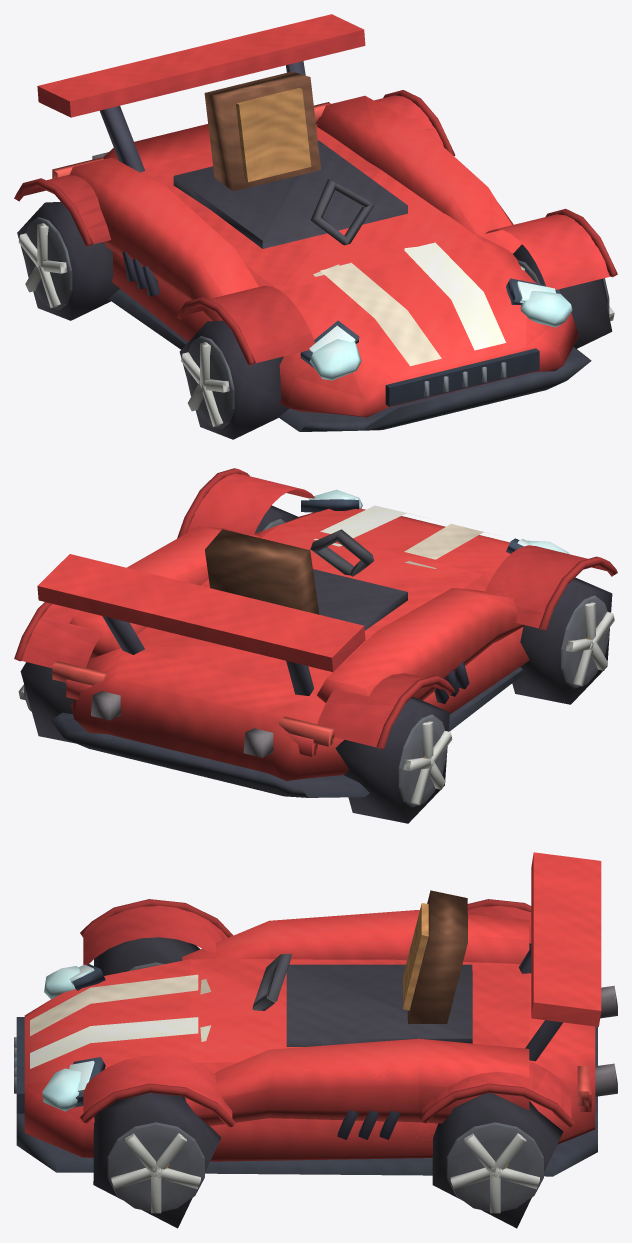
The model's file is kart_scarlet.glb.
3 renders of one model, top to bottom at view 1: azimuth 30°, elevation 25°; view 2: azimuth 150°, elevation 25°; view 3: azimuth 270°, elevation 25°, orthographic. The views are drawn at different scales.
Visible parts, largest first — view 1: Body, Wheel_L_Front, Wheel_L_Back, Wheel_R_Front; view 2: Body, Wheel_L_Back, Wheel_L_Front, Wheel_R_Back, Wheel_R_Front; view 3: Body, Wheel_R_Front, Wheel_R_Back, Wheel_L_Front.
Boxes of the visible parts, left/top/right/bottom form: Body: left=14, top=14, right=617, bottom=431; Wheel_L_Front: left=179, top=320, right=289, bottom=439; Wheel_L_Back: left=17, top=201, right=120, bottom=320; Wheel_R_Front: left=513, top=244, right=614, bottom=348; Body: left=14, top=468, right=617, bottom=797; Wheel_L_Back: left=335, top=697, right=452, bottom=823; Wheel_L_Front: left=512, top=577, right=614, bottom=704; Wheel_R_Back: left=18, top=662, right=75, bottom=743; Wheel_R_Front: left=254, top=505, right=298, bottom=533; Body: left=14, top=852, right=617, bottom=1176; Wheel_R_Front: left=93, top=1093, right=221, bottom=1228; Wheel_R_Back: left=432, top=1093, right=563, bottom=1228; Wheel_L_Front: left=94, top=937, right=200, bottom=975.
Bounding box in the file's own units: 1.79 × 0.9276 × 2.3.
1 material, 1 textured.
